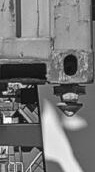twist_lock_2: (45, 70, 94, 124)
